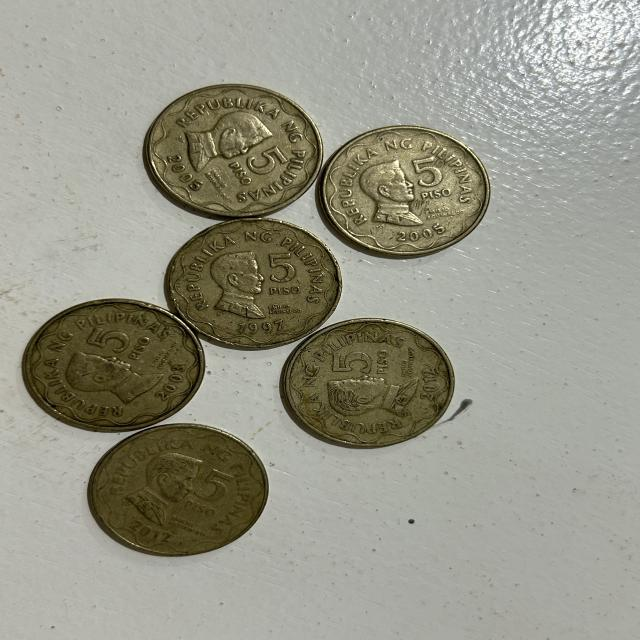5_Old_Front: (180, 462, 247, 515), (77, 323, 156, 367), (221, 145, 295, 183), (261, 247, 306, 307), (402, 156, 456, 206), (326, 342, 396, 380)
